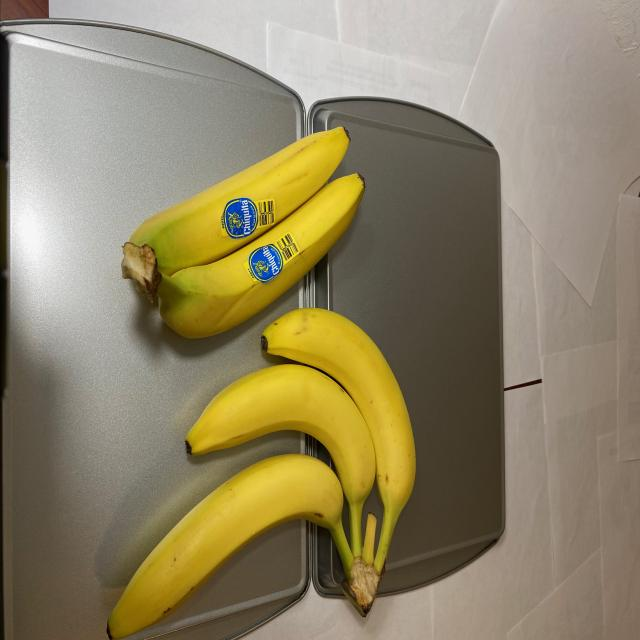banana: (94, 301, 410, 632), (112, 116, 364, 356)
